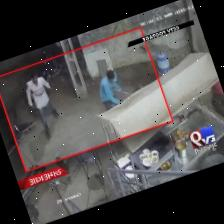person: (26, 72, 58, 138), (99, 70, 120, 110), (211, 82, 223, 116)
